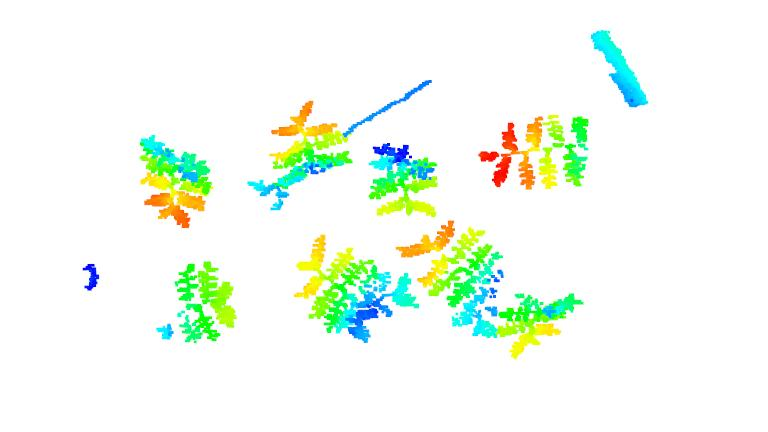chickpea: (300, 234, 415, 347), (250, 101, 355, 206), (405, 221, 509, 312), (477, 113, 594, 189), (479, 295, 594, 360), (158, 261, 235, 350), (138, 136, 214, 226), (368, 143, 441, 217)
